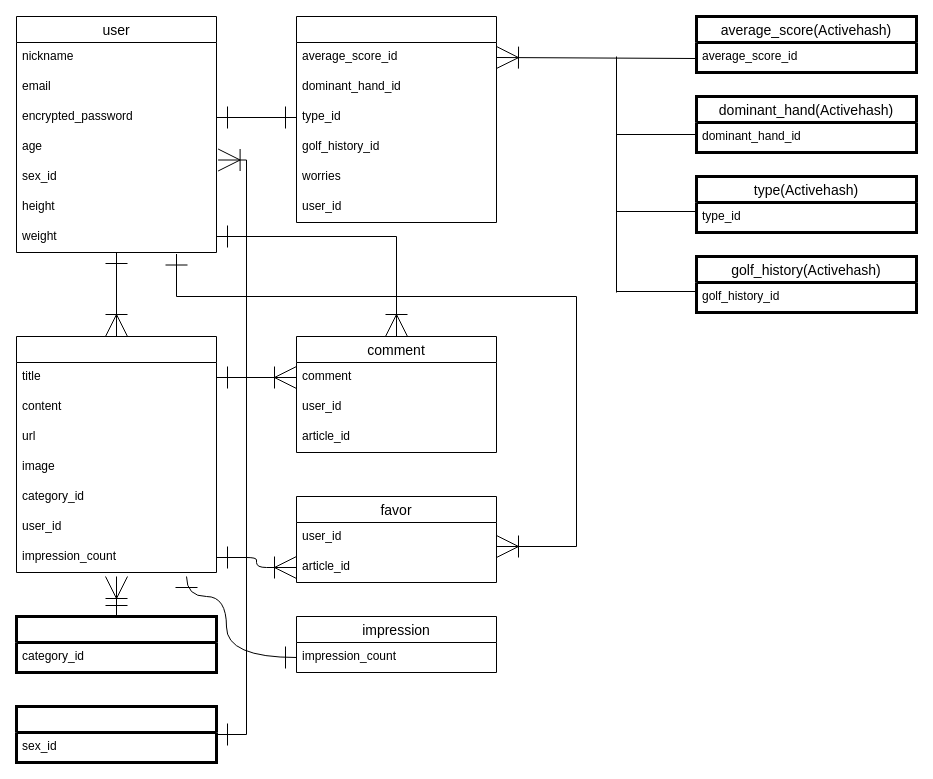
The diagram is 933 pixels wide and 779 high, and some of its shapes have lost their labels. Here are the shapes that lost their labels. From the top down, the box of each, then its label:
(296, 16, 496, 222): golfer
(16, 336, 216, 572): article
(14, 614, 218, 674): category(Activehash)
(14, 704, 218, 764): sex(Activehash)
